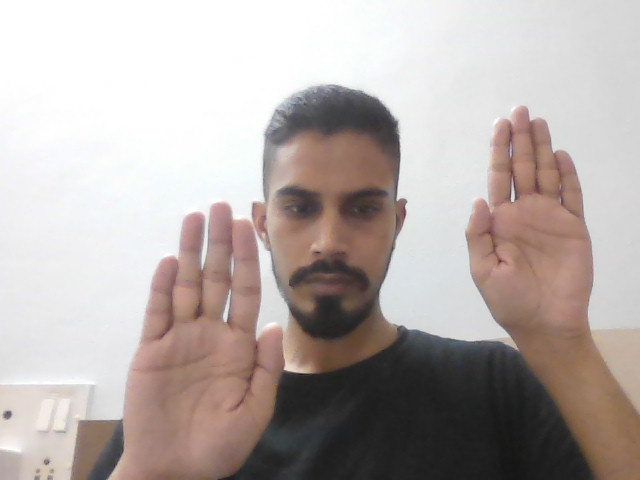Stop: (119, 199, 287, 479), (458, 86, 613, 333)
